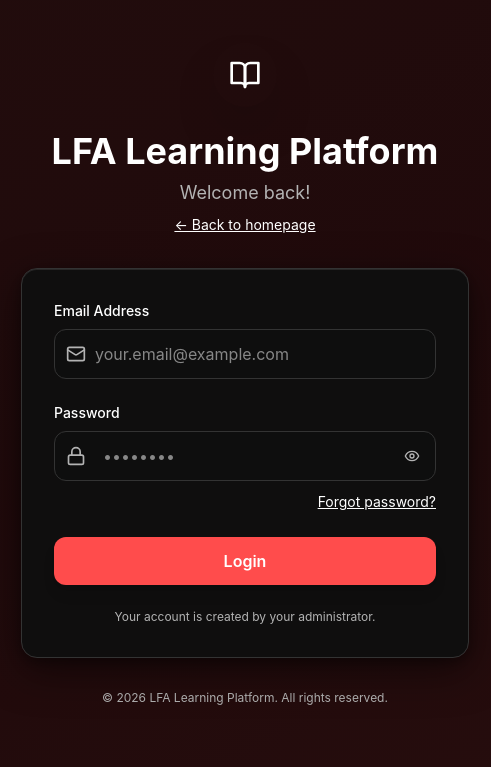
LoginForm when the sign in never answers › shows the English text in the English interface
Step 1. Type "diag-niemand@example.invalid" into the field with id "email" → (245, 354), box x1=54 y1=328 x2=436 y2=378
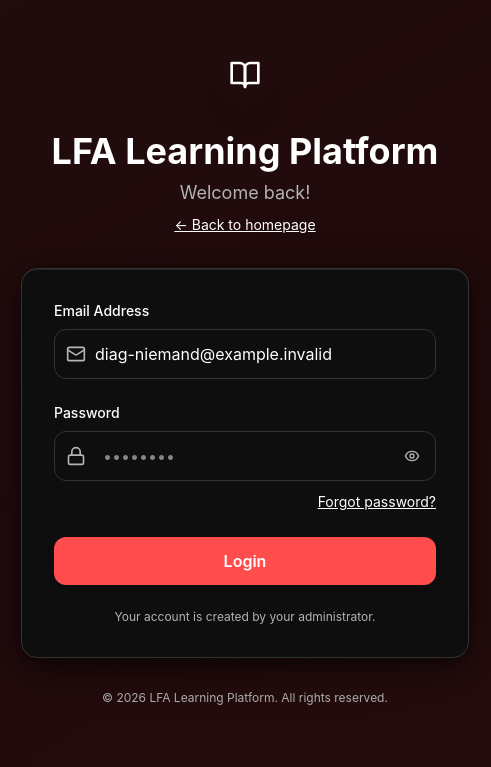
Step 2. Type "geheim" into the password field labelled "Password" → (245, 456), box x1=54 y1=430 x2=436 y2=480
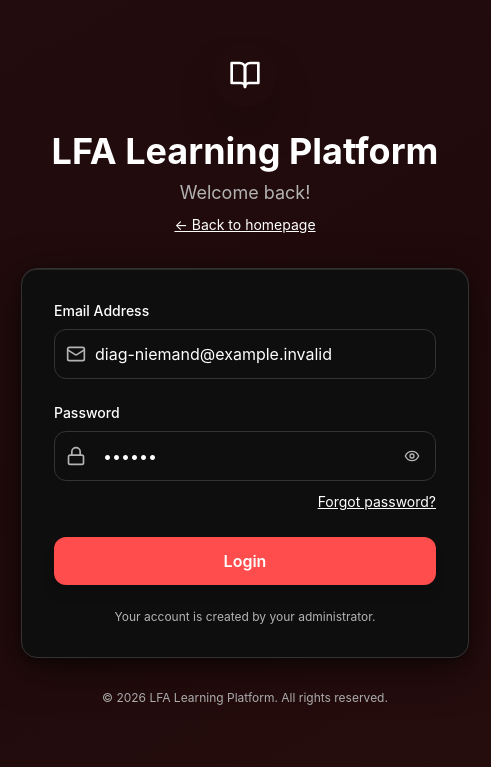
Step 3. Click the button "Login" → (245, 560), box x1=54 y1=536 x2=436 y2=584
Wait 22000 ms
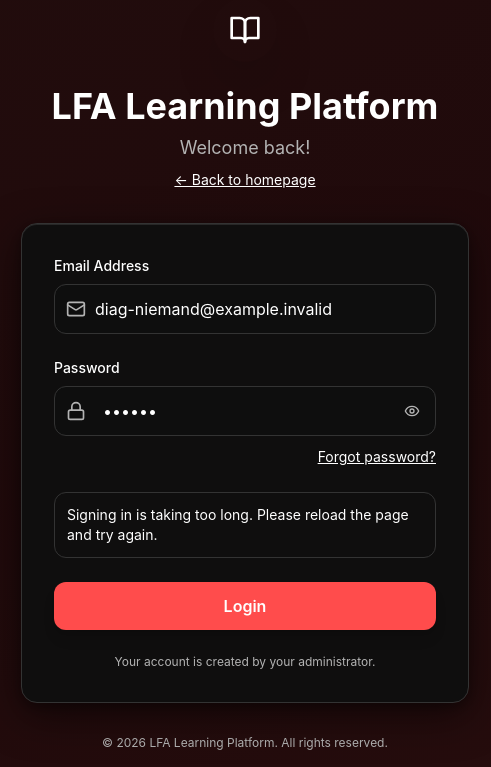
Check: the button "Login" is enabled, box x1=54 y1=582 x2=436 y2=630
Check: the text "Signing in is taking too long. Please reload the page and try again." is shown, box x1=67 y1=504 x2=423 y2=544
